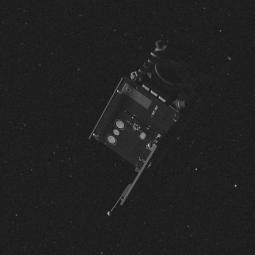proba_2: (82, 34, 222, 210)
